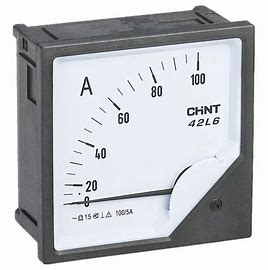pointer: (53, 38, 242, 253)
